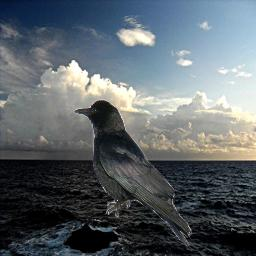Crow: (72, 99, 192, 247)
